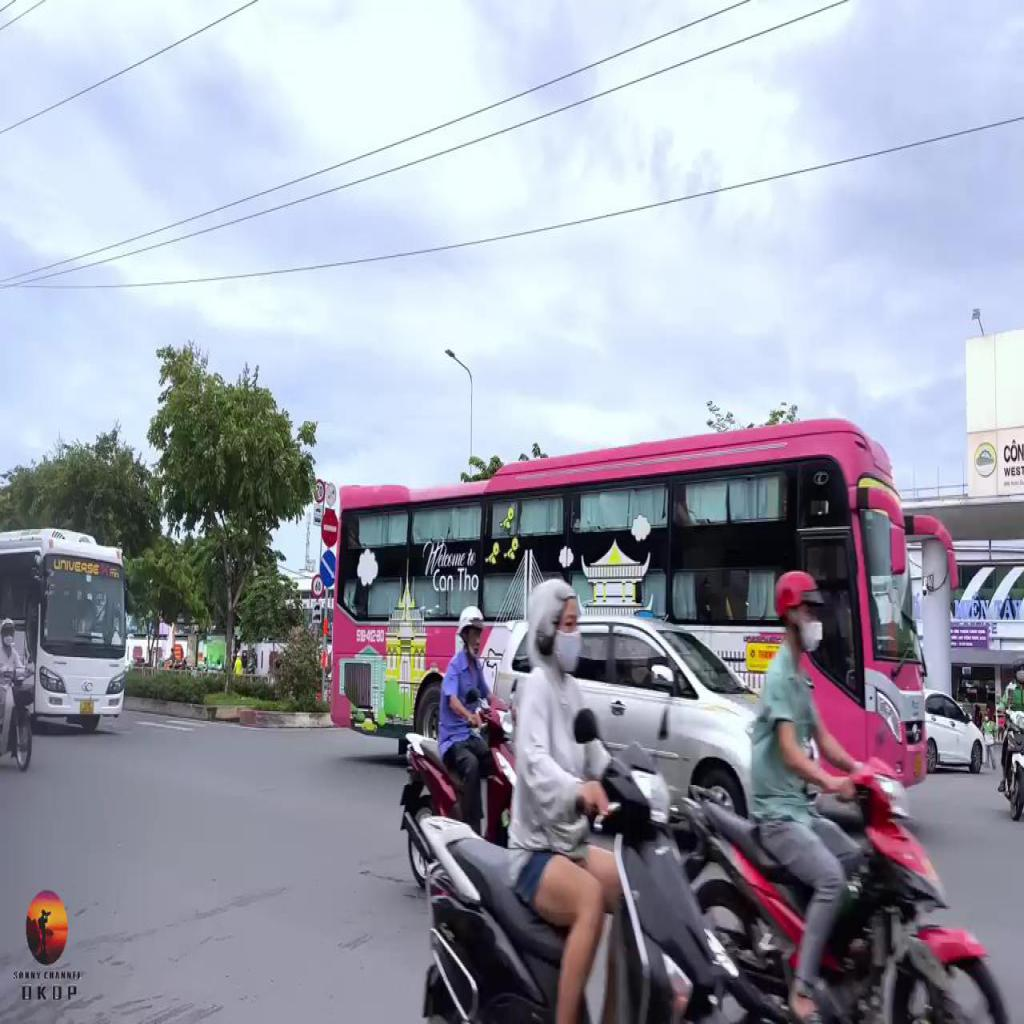cam_xe_di_nguoc_chieu: (322, 511, 339, 549)
huong_phai_di_vuot_chuong_ngai_vat_phai: (318, 550, 336, 589)
khac: (312, 480, 326, 504), (312, 611, 322, 623), (312, 602, 322, 613), (313, 515, 322, 525), (314, 505, 323, 515)
toc_do_toi_da_60: (311, 574, 323, 598)
